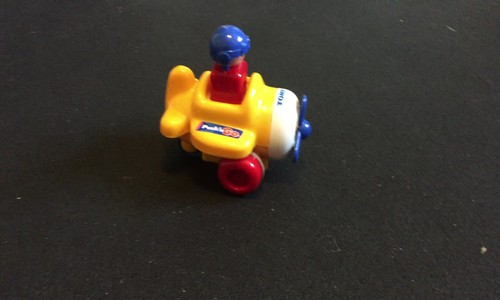toy: (159, 22, 319, 200)
